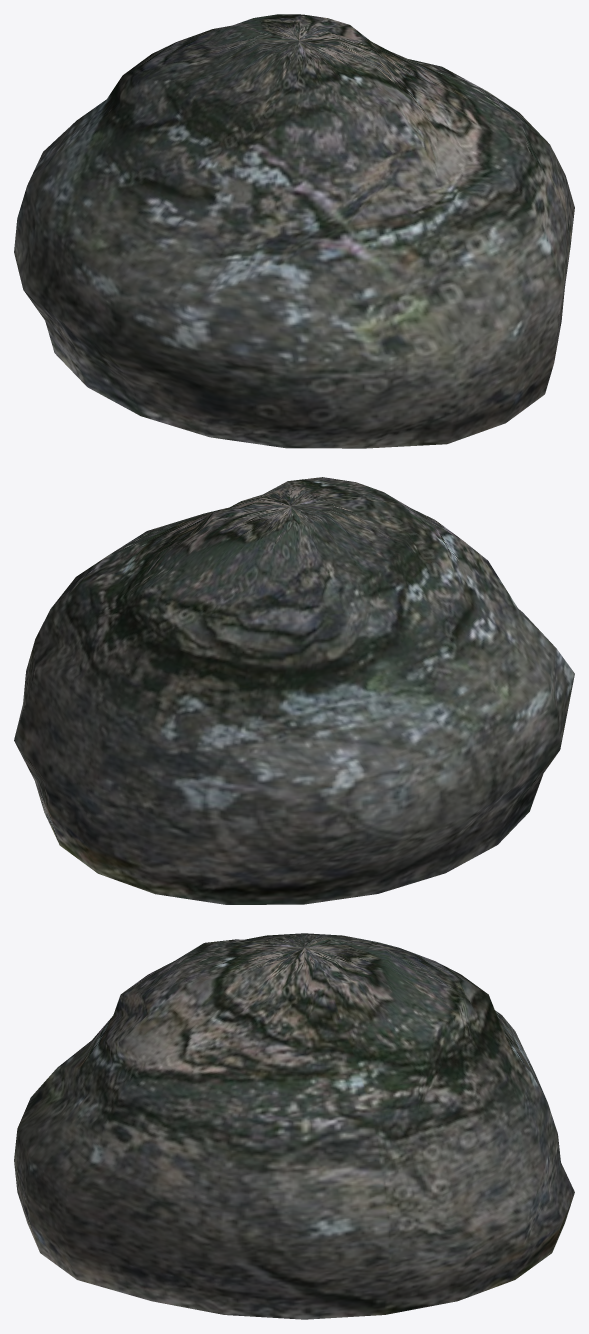
Rendered from Rock_Ryan 1.fbx.
3 renders of one model, top to bottom at view 1: azimuth 30°, elevation 25°; view 2: azimuth 150°, elevation 25°; view 3: azimuth 270°, elevation 25°, orthographic. The views are drawn at different scales.
Visible parts, largest first — view 1: pSphere1; view 2: pSphere1; view 3: pSphere1.
Boxes of the visible parts, x1,y1,x2,y2 form: pSphere1: (14,14,574,448); pSphere1: (14,477,574,904); pSphere1: (14,933,574,1319).
Bounding box in the file's own units: 7.51 × 4.53 × 8.22.
1 material, 1 textured.
